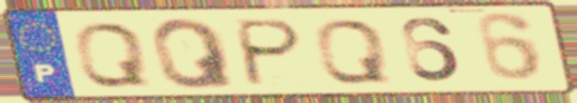6: (477, 9, 547, 89), (399, 16, 466, 86)
P: (234, 17, 307, 89)
Q: (148, 17, 240, 92), (71, 20, 152, 90), (312, 17, 393, 86)
